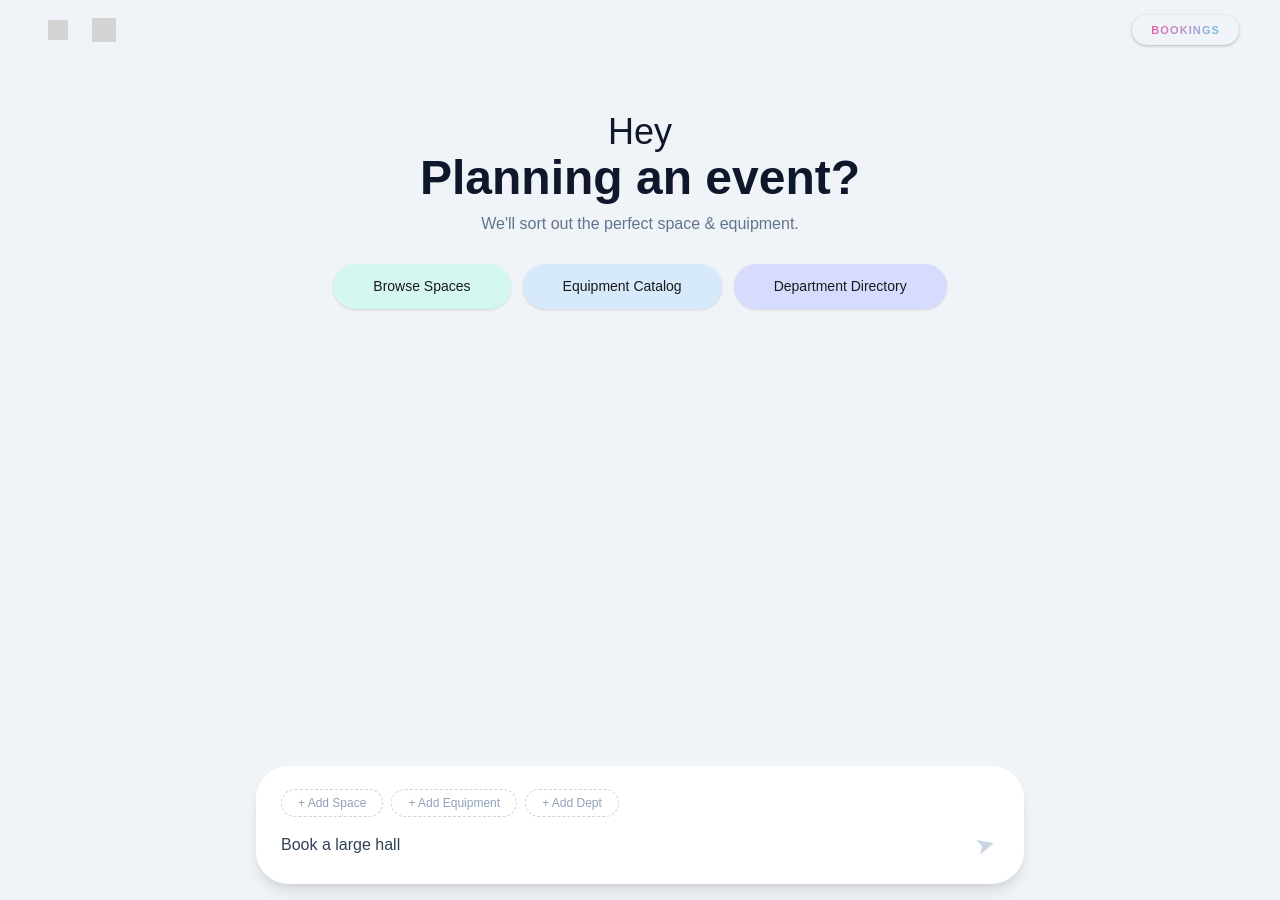
Test case: MainChat Component › sends a message and updates the chat interface successfully
The image size is (1280, 900).
Click the button "➤" at (985, 845), box [971,829,999,861]
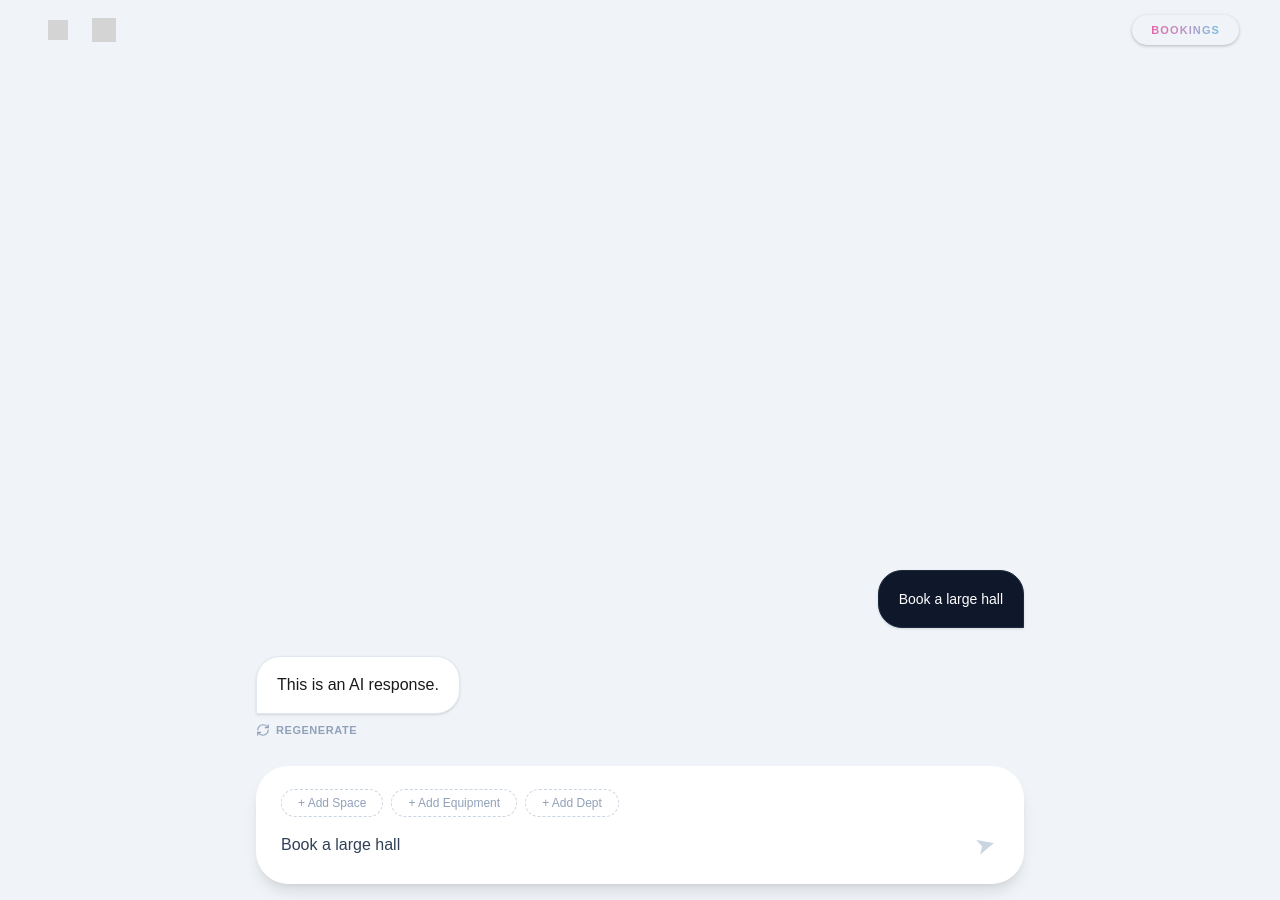
Expected: the text "This is an AI response." is shown, [277,672,439,696]
